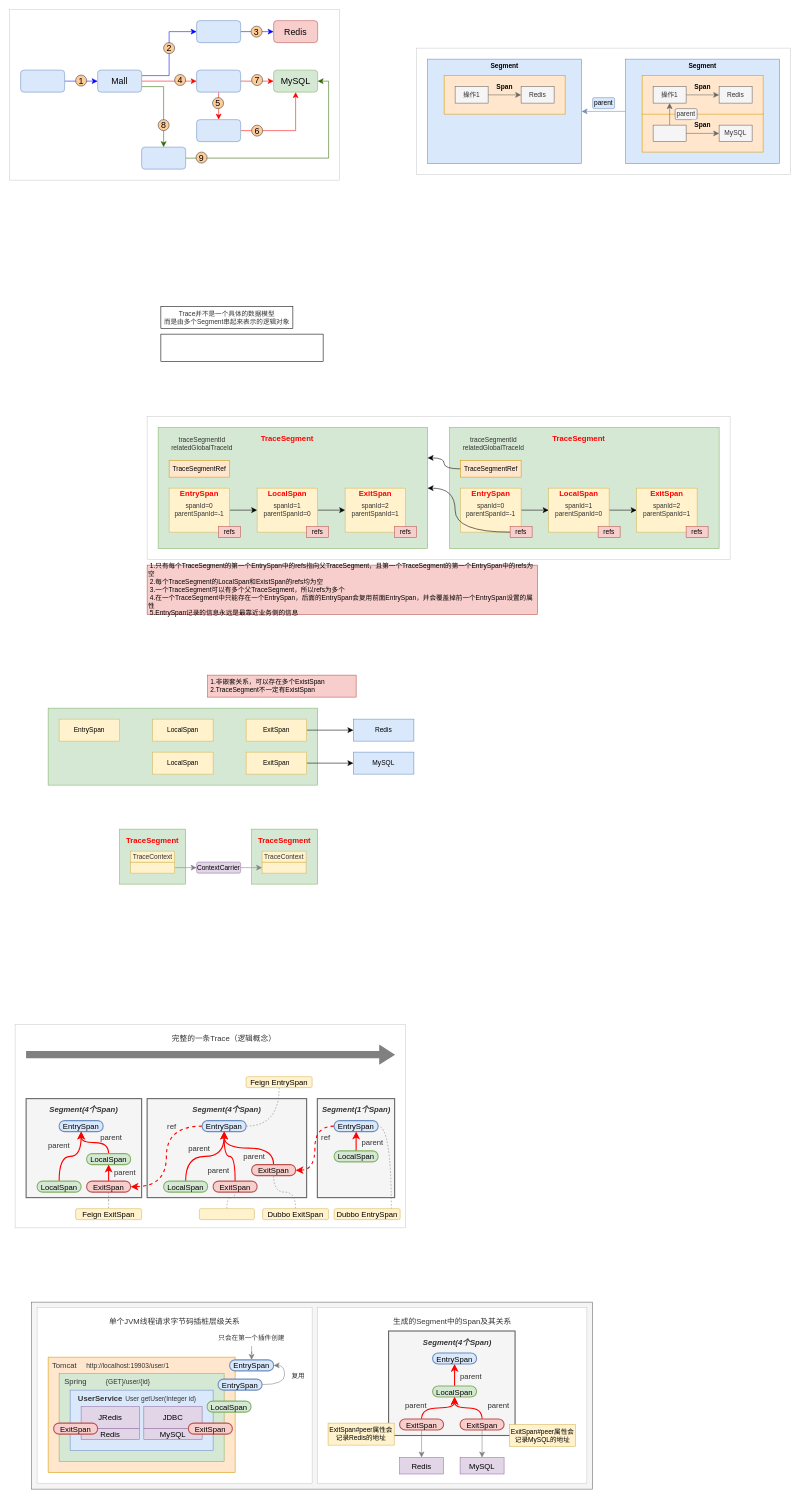
Image size: 800x1499. Some labels were removed from this diagram. Here are the shapes that lost their labels. From the top down, the box of each, then its label:
(196, 20, 241, 43): Stock
(20, 70, 65, 92): Gateway
(196, 70, 241, 92): Order
(196, 119, 241, 142): Shipping
(653, 125, 686, 142): 操作2
(141, 147, 186, 169): Funding
(160, 334, 323, 362): TraceSegment 存在跨进程和跨线程情况（跨进程目前先不考虑~）
(130, 862, 175, 873): inject
(262, 862, 306, 873): extract
(199, 1208, 254, 1220): JDBC ExitSpan
